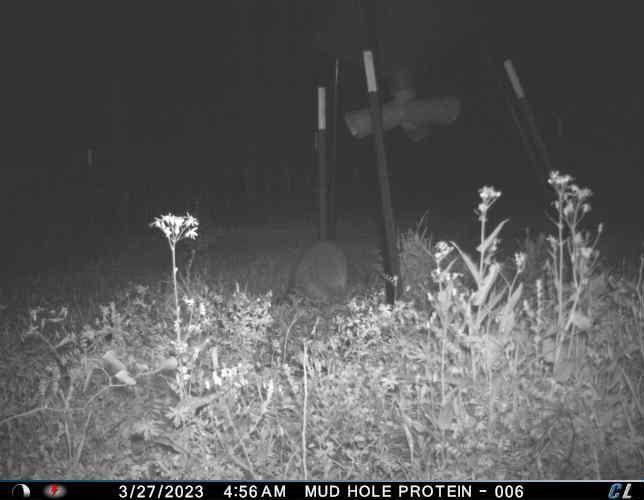Raccoon: (277, 238, 350, 311)
